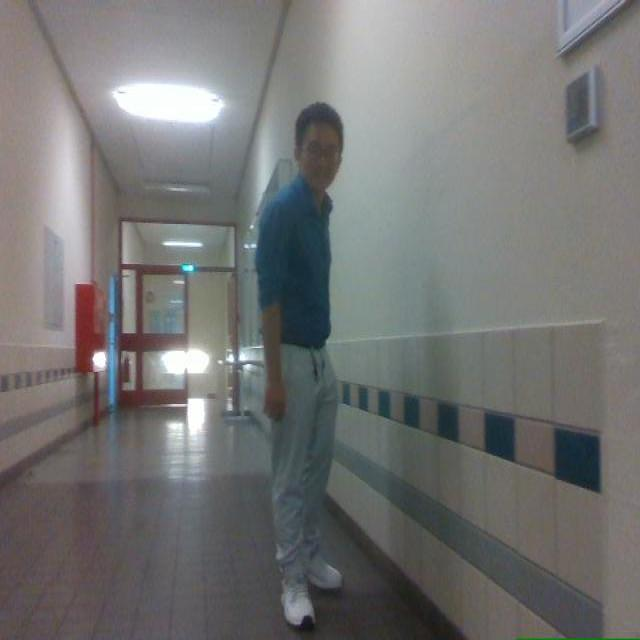humans: (255, 103, 343, 628)
